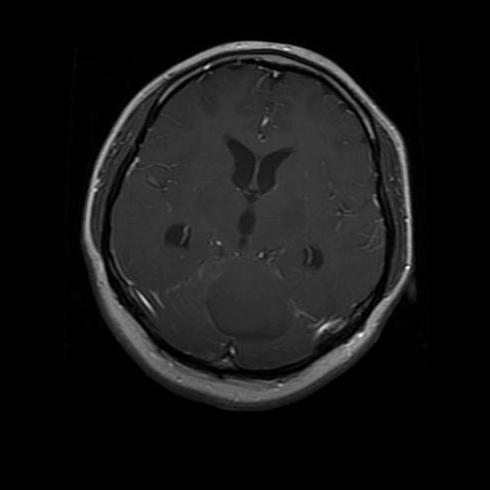Tumour-Glioma: (215, 263, 287, 354)
